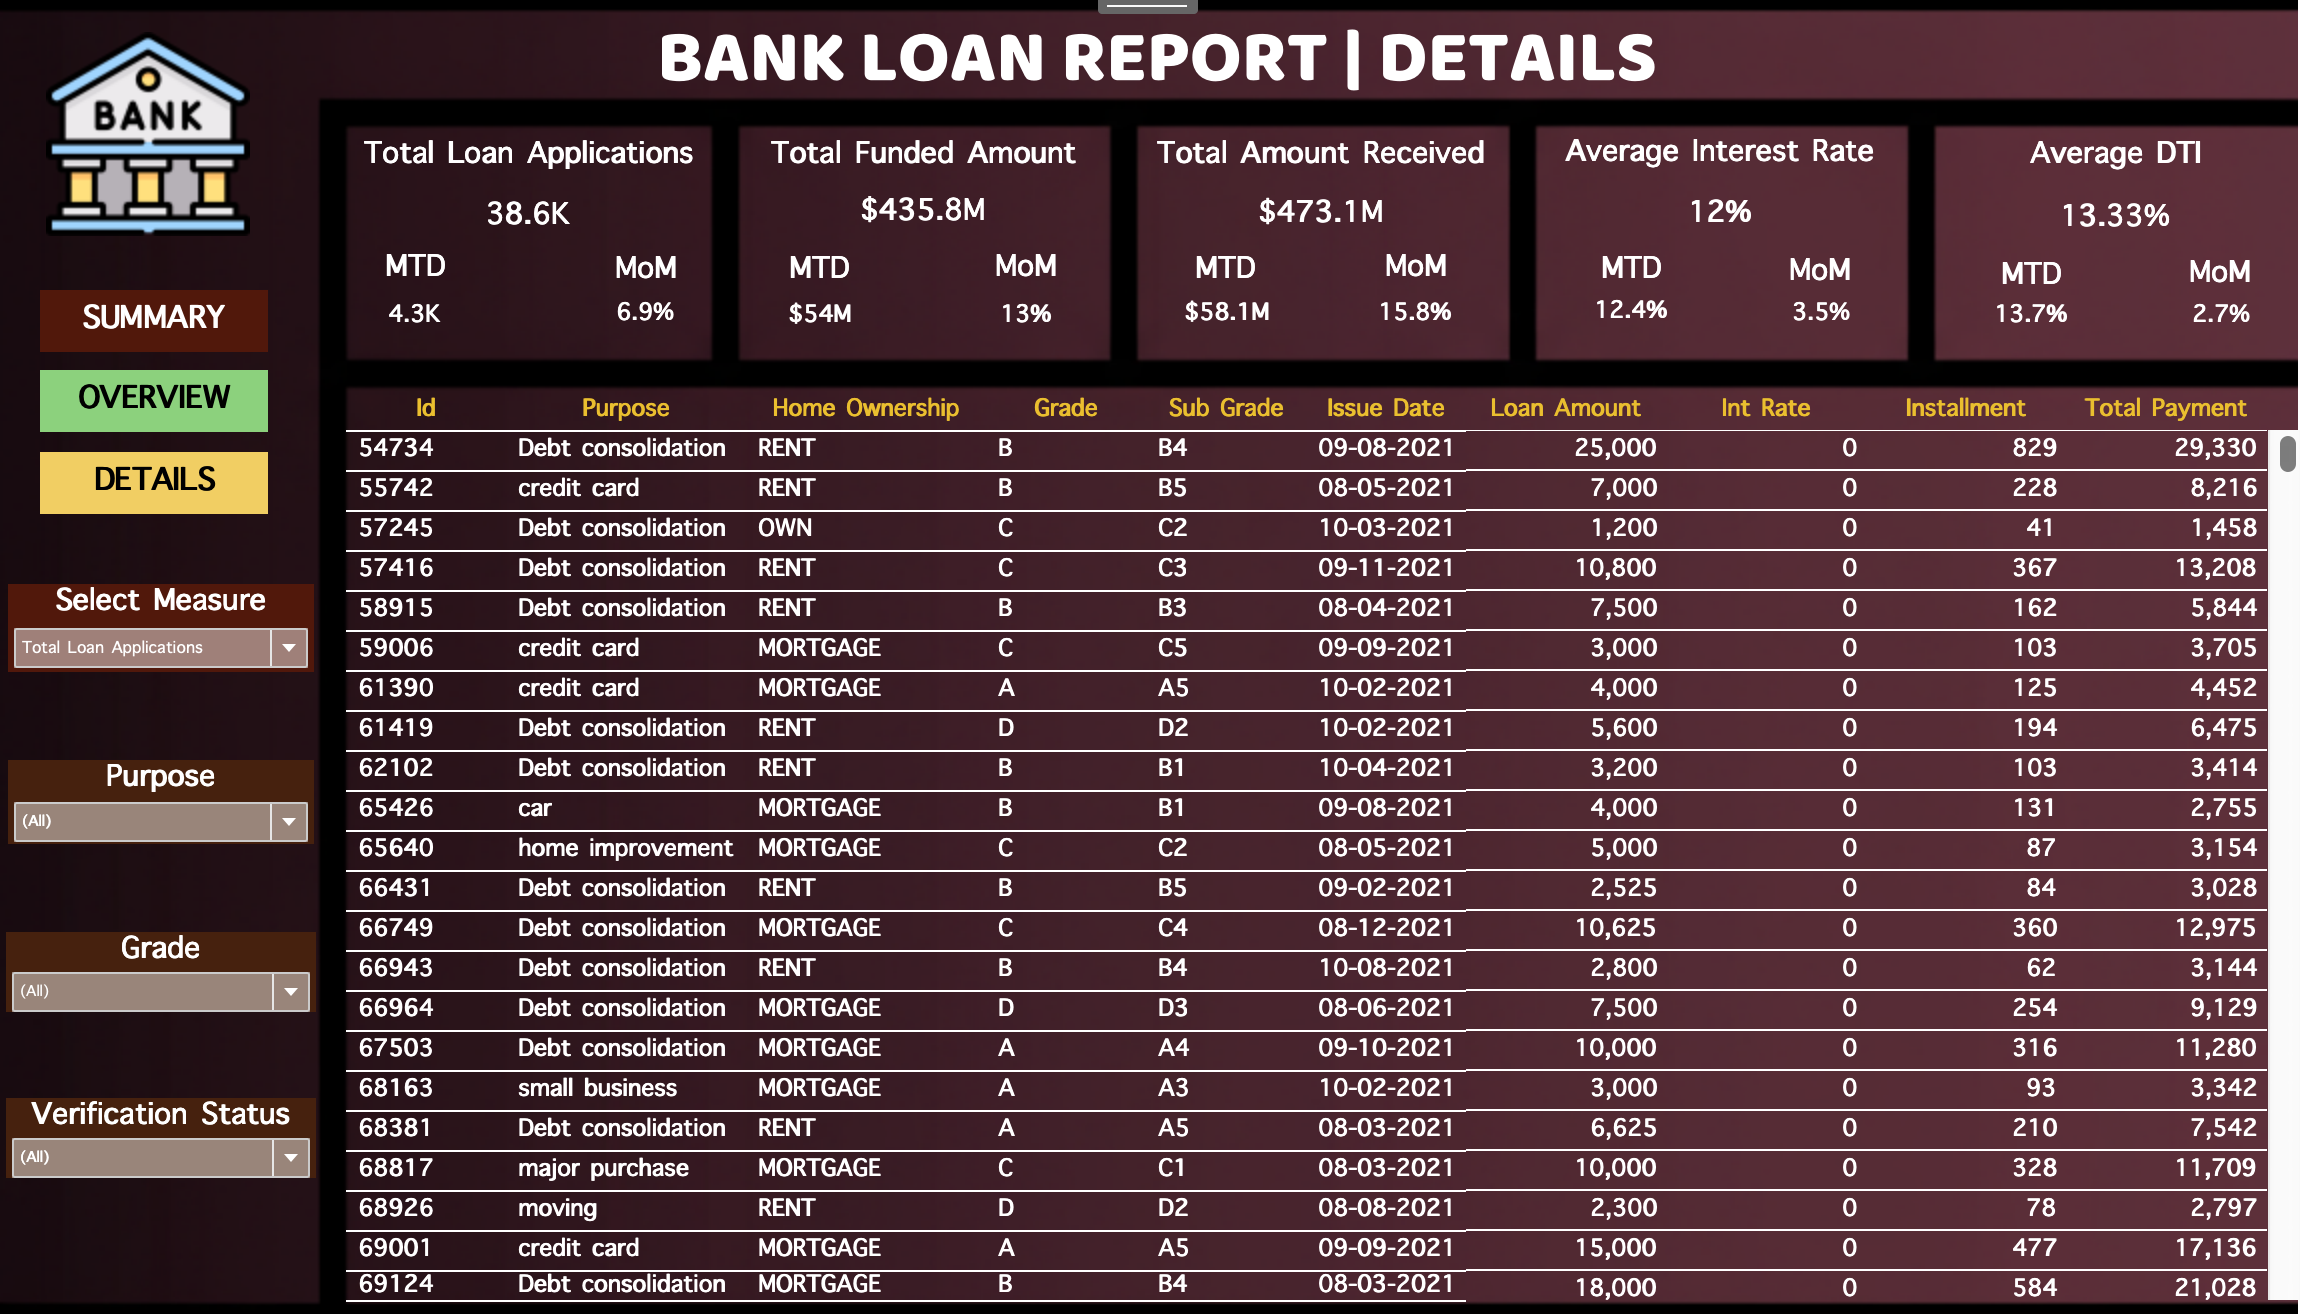

This screenshot's page, from the dashboard's own definition file:
{"tool":"tableau","page":{"name":"DETAILS","canvas":[1000,1000],"units":"permille","ordinal":0},"visuals":[{"type":"image","param":"Image/generated-image (1).png","box":[6.4,11.8,987.3,976.5]},{"type":"text","box":[247,27.9,512.3,64.6]},{"type":"image","param":"Image/bank_2830284.png","box":[58,41.1,89,149.8]},{"type":"image","param":"Image/bank_8176383.png","box":[54.8,42.6,90.5,152.7]},{"type":"worksheet","title":"Average Interest Rate","mark":"Automatic","box":[653.5,110.1,145.9,80.8]},{"type":"worksheet","title":"Total Loan Applications","mark":"Automatic","box":[182.7,111.6,142.2,80.8]},{"type":"worksheet","title":"Total Funded Amount","mark":"Automatic","box":[337.6,111.6,146.2,74.9]},{"type":"worksheet","title":"Total Amount Received","mark":"Automatic","box":[495.6,111.6,145.3,77.8]},{"type":"worksheet","title":"Average DTI","mark":"Automatic","box":[812.1,111.6,144.3,85.2]},{"type":"text","box":[185.9,195.3,46.1,39.6]},{"type":"text","box":[428.1,195.3,46.1,39.6]},{"type":"text","box":[583,195.3,46.1,39.6]},{"type":"text","box":[277.2,196.8,46.1,39.6]},{"type":"text","box":[346.3,196.8,46.1,39.6]},{"type":"text","box":[507.6,196.8,46.1,39.6]},{"type":"text","box":[668.5,196.8,46,39.6]},{"type":"text","box":[743.1,198.2,46,39.6]},{"type":"text","box":[902.5,199.7,46,39.6]},{"type":"text","box":[827.9,201.2,46,39.6]},{"type":"worksheet","title":"MTD Average Interest Rate","mark":"Automatic","box":[670.1,227.6,42,38.2]},{"type":"worksheet","title":"MTD Total Amount Received","mark":"Automatic","box":[503.6,229.1,54.8,38.2]},{"type":"dashboard-object","box":[59.6,230.5,90.5,45.5]},{"type":"worksheet","title":"MTD Total Funded Amount","mark":"Automatic","box":[349.5,230.5,40.5,38.2]},{"type":"worksheet","title":"MTD Total Loan Applications","mark":"Automatic","box":[184.3,232,49.2,35.2]},{"type":"worksheet","title":"MoM Loan Applications","mark":"Automatic","box":[282,232,35.7,33.8]},{"type":"worksheet","title":"MoM Total Funded Amount","mark":"Automatic","box":[431.3,232,39.7,35.2]},{"type":"worksheet","title":"MoM Total Amount Received","mark":"Automatic","box":[583,232,46.1,33.8]},{"type":"worksheet","title":"MoM Average Interest Rate","mark":"Automatic","box":[740.7,232,51.6,33.8]},{"type":"worksheet","title":"MoM Average DTI","mark":"Automatic","box":[903.2,233.5,46,32.3]},{"type":"worksheet","title":"MTD Average DTI","mark":"Automatic","box":[828.7,235,43.6,29.4]},{"type":"dashboard-object","box":[59.6,289.3,90.5,45.5]},{"type":"worksheet","title":"Details Tab","mark":"Automatic","rows":["id","purpose","home_ownership","grade","sub_grade","issue_date"],"box":[181.1,304,776.8,669.6]},{"type":"dashboard-object","box":[59.6,349.5,90.5,45.5]},{"type":"parameter","param":"[Parameters].[Parameter 1]","box":[46.9,446.4,121.5,64.6]},{"type":"filter","title":"Average DTI","param":"[federated.1kewwyl1bnugki18qmdj51btraj1].[none:purpose:nk]","box":[46.9,575.6,121.5,61.7]},{"type":"filter","title":"Average DTI","param":"[federated.1kewwyl1bnugki18qmdj51btraj1].[none:grade:nk]","box":[46.1,701.9,123.1,58.7]},{"type":"filter","title":"Average DTI","param":"[federated.1kewwyl1bnugki18qmdj51btraj1].[none:verification_status:nk]","box":[46.1,823.8,123.1,58.7]}]}

Visuals, with their boxes on the dashboard's canvas, which has no fixed pixel size, in thousandths of its width and height (x1, y1, x2, y2). These are canvas units, not pixel positions in the 2300x1314 screenshot, which may show the page scaled, cropped or inside an application window:
image: (left=6, top=12, right=994, bottom=988)
text: (left=247, top=28, right=759, bottom=92)
image: (left=58, top=41, right=147, bottom=191)
image: (left=55, top=43, right=145, bottom=195)
"Average Interest Rate" worksheet: (left=654, top=110, right=799, bottom=191)
"Total Loan Applications" worksheet: (left=183, top=112, right=325, bottom=192)
"Total Funded Amount" worksheet: (left=338, top=112, right=484, bottom=186)
"Total Amount Received" worksheet: (left=496, top=112, right=641, bottom=189)
"Average DTI" worksheet: (left=812, top=112, right=956, bottom=197)
text: (left=186, top=195, right=232, bottom=235)
text: (left=428, top=195, right=474, bottom=235)
text: (left=583, top=195, right=629, bottom=235)
text: (left=277, top=197, right=323, bottom=236)
text: (left=346, top=197, right=392, bottom=236)
text: (left=508, top=197, right=554, bottom=236)
text: (left=668, top=197, right=714, bottom=236)
text: (left=743, top=198, right=789, bottom=238)
text: (left=902, top=200, right=948, bottom=239)
text: (left=828, top=201, right=874, bottom=241)
"MTD Average Interest Rate" worksheet: (left=670, top=228, right=712, bottom=266)
"MTD Total Amount Received" worksheet: (left=504, top=229, right=558, bottom=267)
dashboard-object: (left=60, top=230, right=150, bottom=276)
"MTD Total Funded Amount" worksheet: (left=350, top=230, right=390, bottom=269)
"MTD Total Loan Applications" worksheet: (left=184, top=232, right=234, bottom=267)
"MoM Loan Applications" worksheet: (left=282, top=232, right=318, bottom=266)
"MoM Total Funded Amount" worksheet: (left=431, top=232, right=471, bottom=267)
"MoM Total Amount Received" worksheet: (left=583, top=232, right=629, bottom=266)
"MoM Average Interest Rate" worksheet: (left=741, top=232, right=792, bottom=266)
"MoM Average DTI" worksheet: (left=903, top=234, right=949, bottom=266)
"MTD Average DTI" worksheet: (left=829, top=235, right=872, bottom=264)
dashboard-object: (left=60, top=289, right=150, bottom=335)
"Details Tab" worksheet: (left=181, top=304, right=958, bottom=974)
dashboard-object: (left=60, top=350, right=150, bottom=395)
parameter: (left=47, top=446, right=168, bottom=511)
"Average DTI" filter: (left=47, top=576, right=168, bottom=637)
"Average DTI" filter: (left=46, top=702, right=169, bottom=761)
"Average DTI" filter: (left=46, top=824, right=169, bottom=882)
